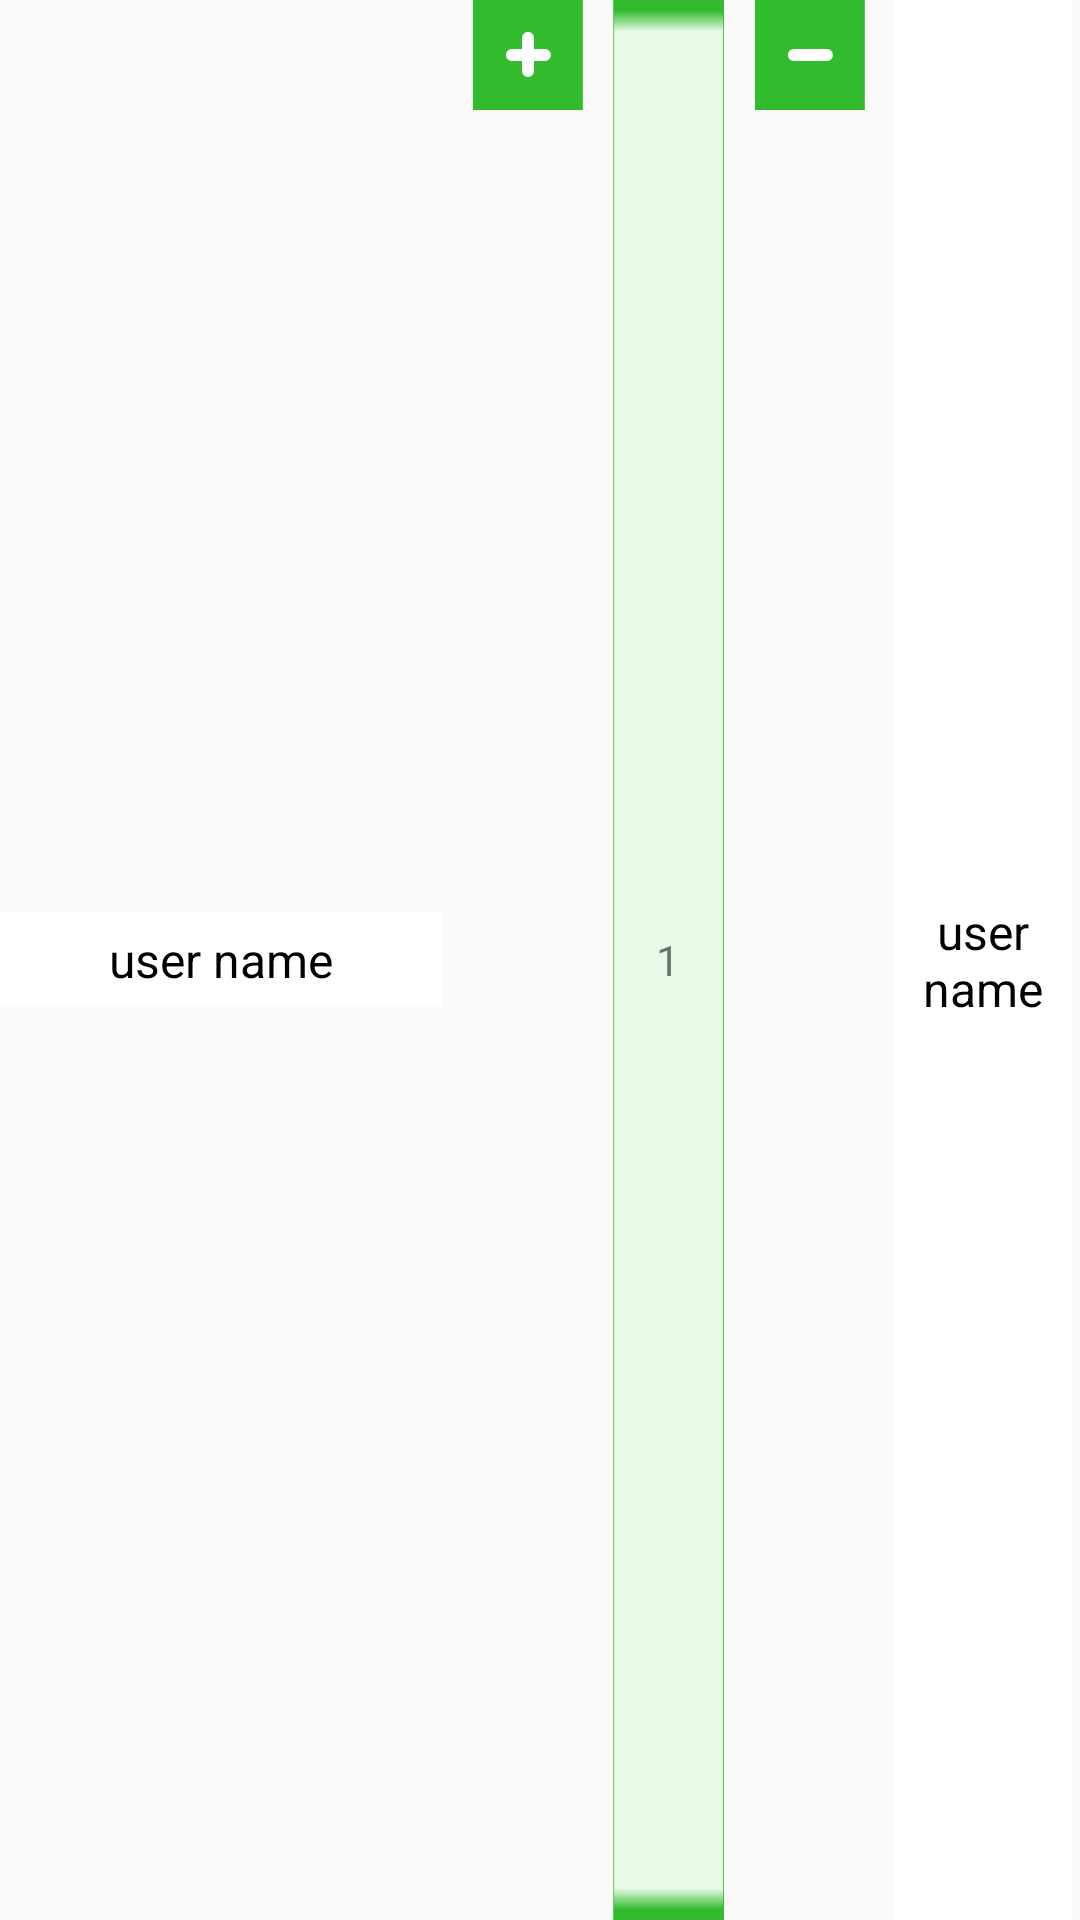

Where icons sit on this 1080*1920 app screen, as (x1, y1, x2, y2):
plus: (473, 0, 583, 110)
